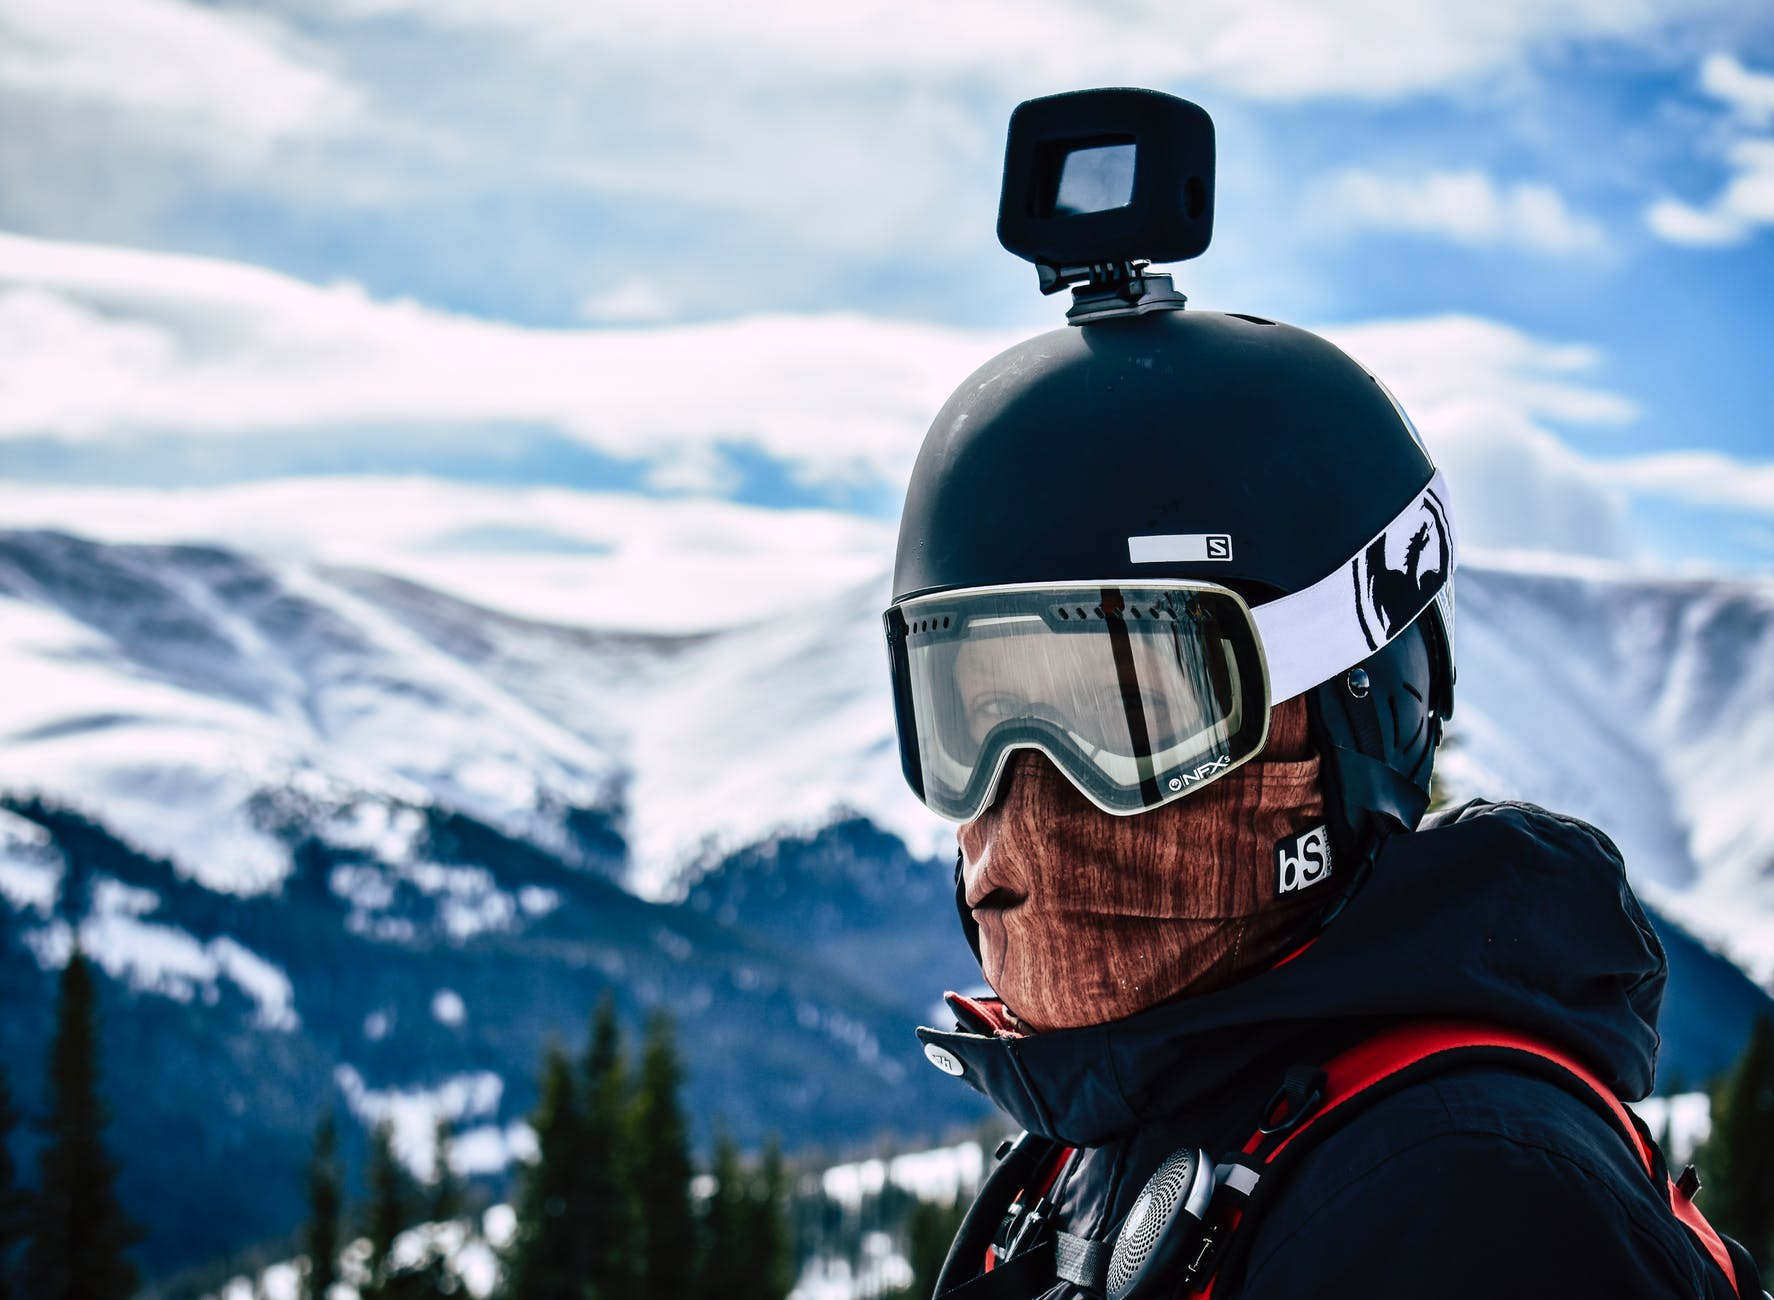helmet: (886, 326, 1472, 751)
